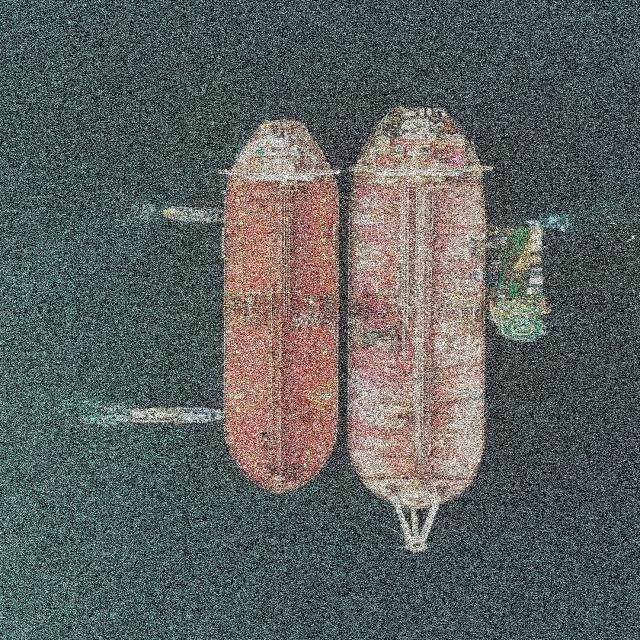ship2: (341, 106, 487, 556), (222, 121, 345, 497)
